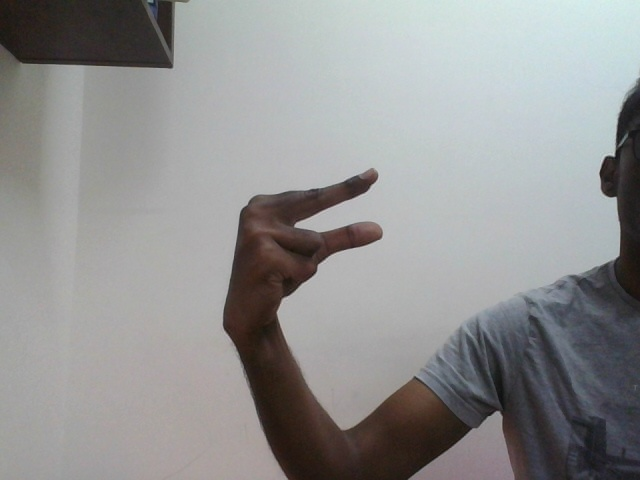No: (238, 166, 392, 263)
